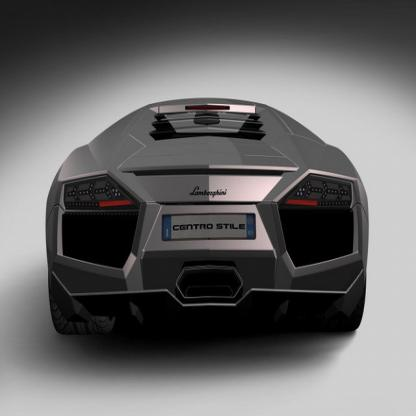Vehicle: (45, 96, 370, 340)
